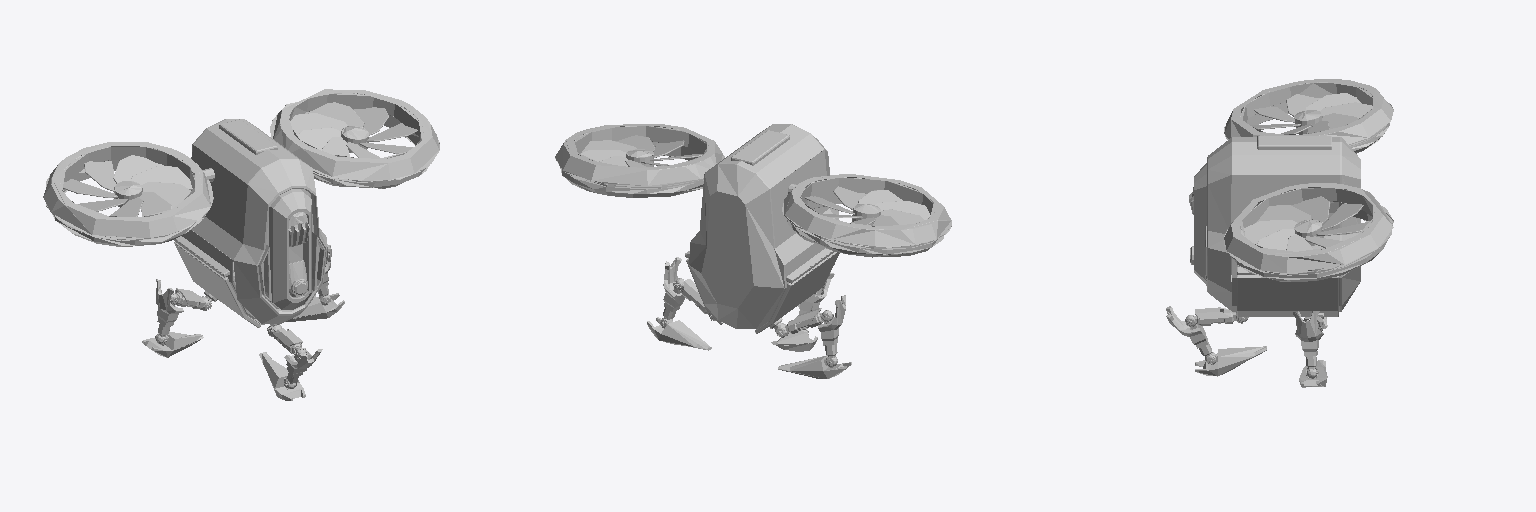
Rendered from drone.obj.
The picture shows the model from 3 angles: view 1: azimuth 30°, elevation 25°; view 2: azimuth 150°, elevation 25°; view 3: azimuth 270°, elevation 25°; orthographic projection.
Visible parts, largest first — view 1: Drone_Body_body_0; view 2: Drone_Body_body_0; view 3: Drone_Body_body_0.
Boxes of the visible parts, <box> form: Drone_Body_body_0: <box>43,89,439,400</box>; Drone_Body_body_0: <box>555,124,951,378</box>; Drone_Body_body_0: <box>1166,79,1393,387</box>.
Size of the model in its own units: 190 by 112 by 100.